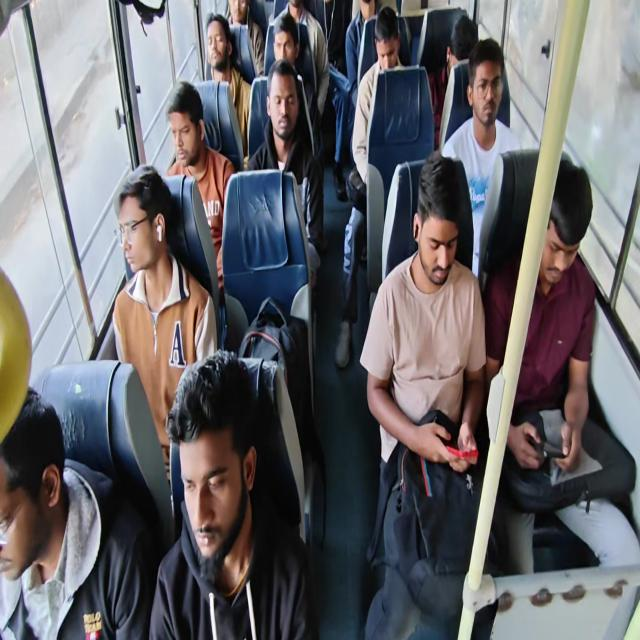person: (178, 444, 254, 602), (101, 164, 176, 312), (0, 410, 53, 615), (532, 188, 594, 285), (413, 184, 467, 277), (250, 61, 295, 160), (466, 57, 513, 133), (204, 13, 241, 98), (163, 96, 201, 178), (268, 5, 297, 86), (448, 23, 494, 74), (376, 10, 413, 71), (357, 0, 387, 45), (223, 0, 254, 29), (283, 0, 306, 26)
